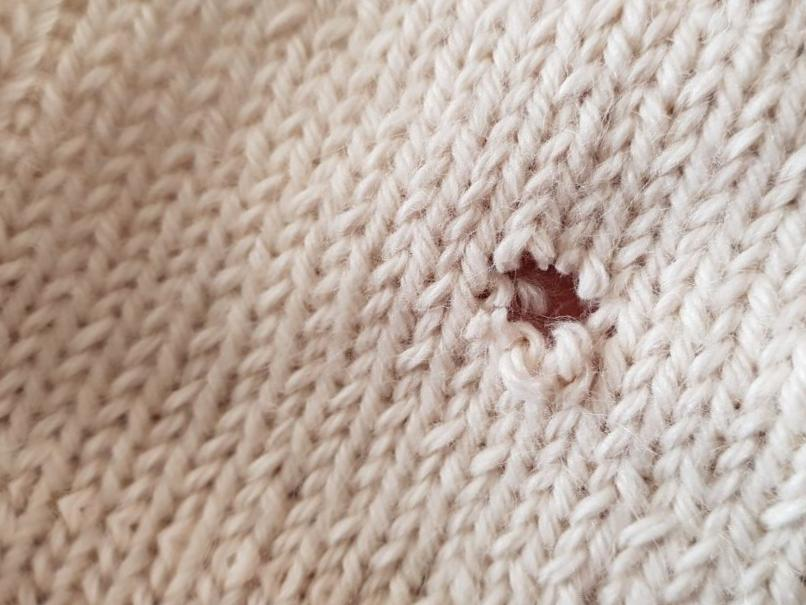hole: (476, 243, 614, 354)
